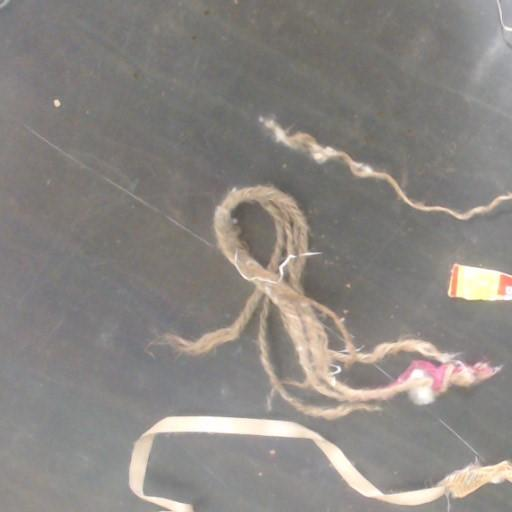conveyor belt: (147, 436, 395, 511)
jute: (160, 185, 499, 418), (259, 116, 511, 220)
packet: (447, 264, 511, 300)
thread: (128, 416, 511, 511), (497, 0, 511, 31)
